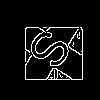S: (25, 25, 82, 78)
